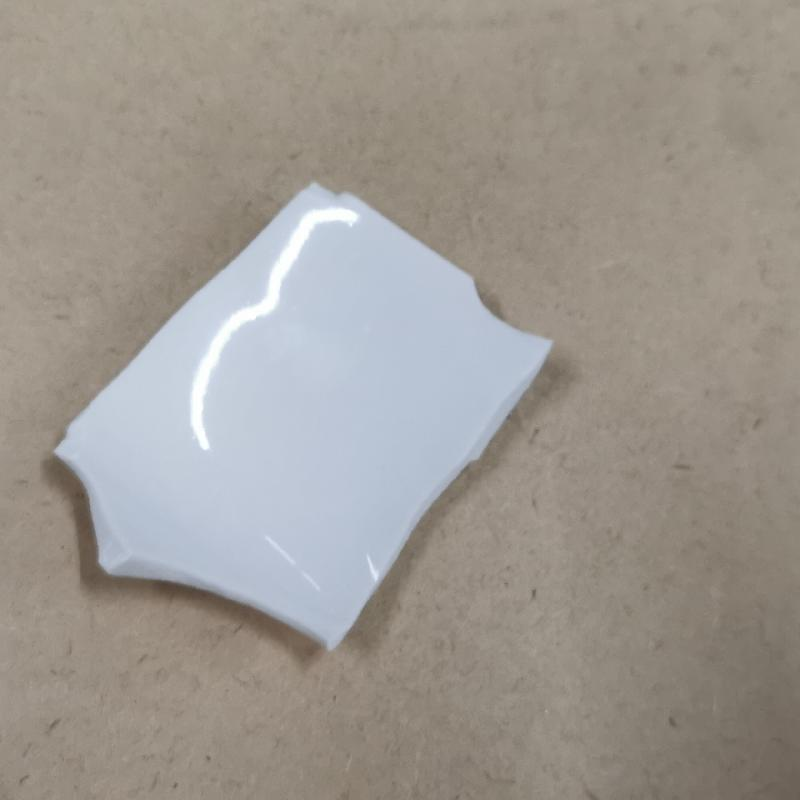ceram: (47, 172, 560, 659)
